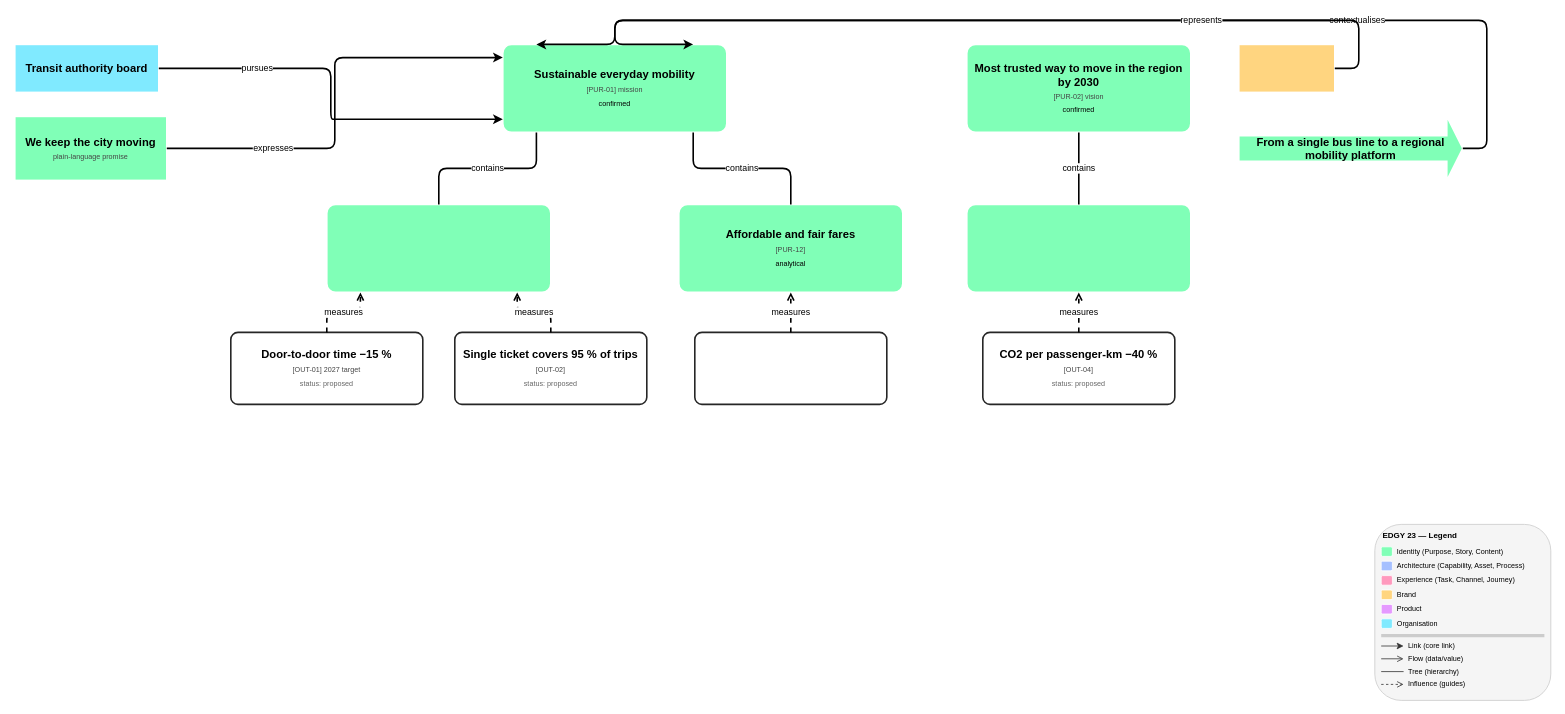
Image size: 1565x714. Some labels were removed from this diagram. The shapes that lost their labels are listed below. From the top down, each one's centre as x and y in pixels, then its label:
[1286,68]: Acme Transit
[438,248]: Seamless travel chains [PUR-11] analytical
[1078,248]: Zero-emission fleet [PUR-13] analytical
[790,368]: Fare satisfaction ≥ 4.0 / 5 [OUT-03] status: proposed
